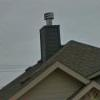Chimney: (32, 4, 68, 68)
